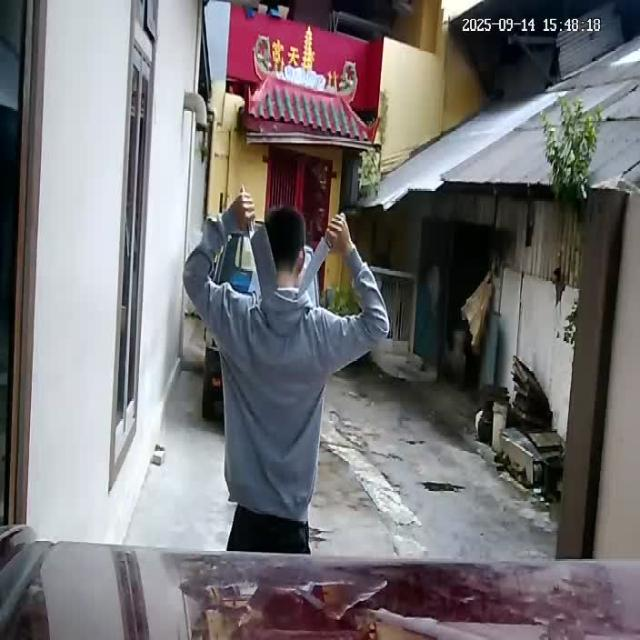senjata_tajam: (248, 223, 280, 305), (294, 235, 332, 304)
